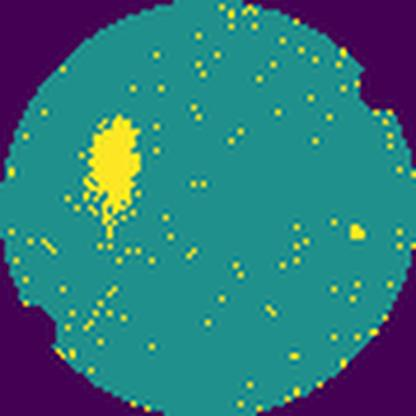Loc: (80, 114, 140, 241)
